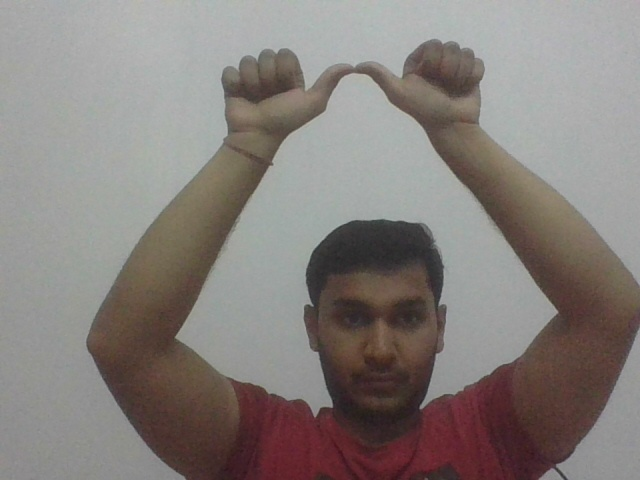A: (222, 34, 485, 128)
